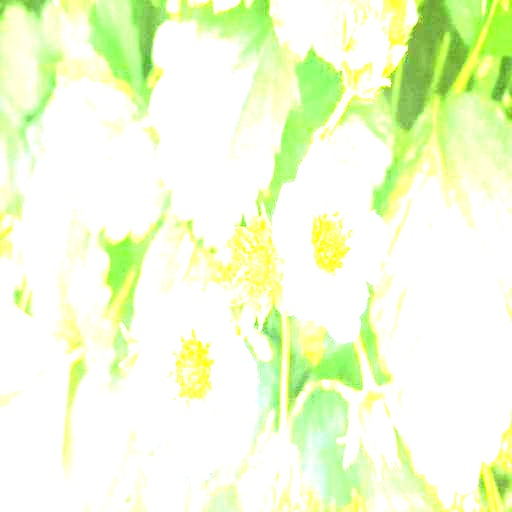Blossom Blight: (161, 323, 222, 419), (306, 189, 361, 284), (228, 224, 285, 299)
